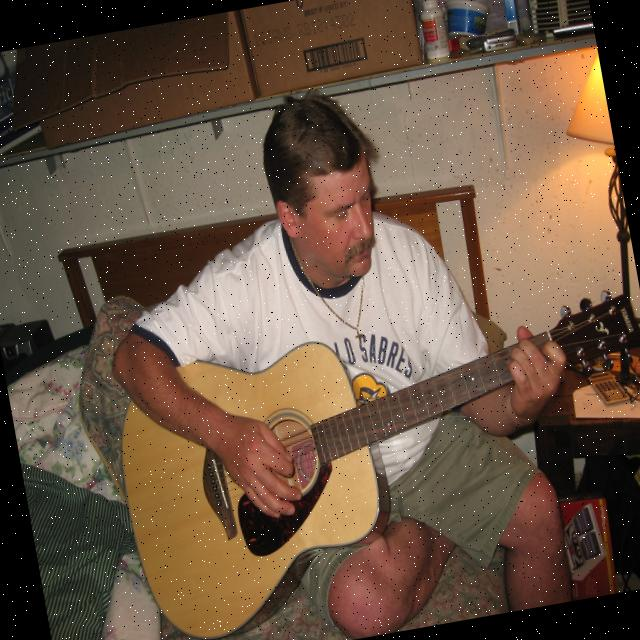guitar: (102, 279, 640, 640)
